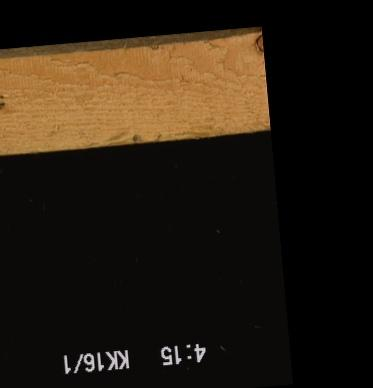dry_knot: (254, 32, 262, 54)
